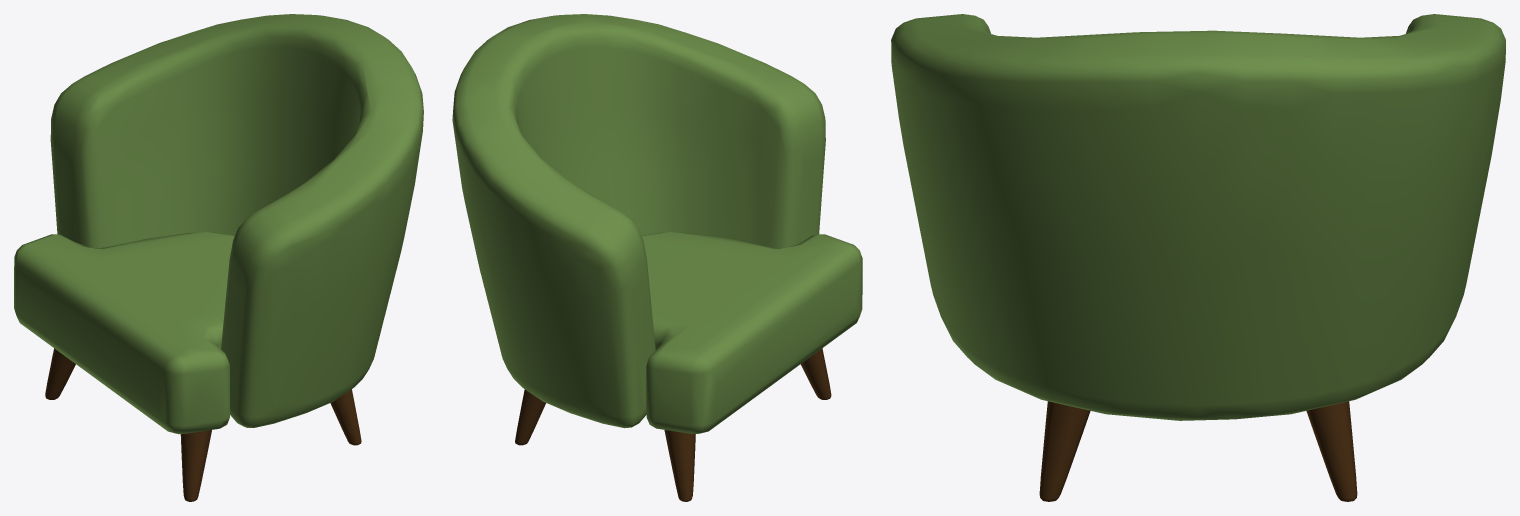
Rendered from armchair_07_green.fbx.
The picture shows the model from 3 angles, left to right: view 1: azimuth 30°, elevation 25°; view 2: azimuth 150°, elevation 25°; view 3: azimuth 270°, elevation 25°; orthographic projection. The views are drawn at different scales.
Parts seen in each view (by area): view 1: armchair_07_green; view 2: armchair_07_green; view 3: armchair_07_green.
Part boxes in pixels (bbox=[...]): armchair_07_green: bbox=[14, 14, 423, 501]; armchair_07_green: bbox=[452, 14, 862, 501]; armchair_07_green: bbox=[891, 14, 1505, 501].
Size of the model in its own units: 102 by 114 by 128.
2 materials, 2 textured.
